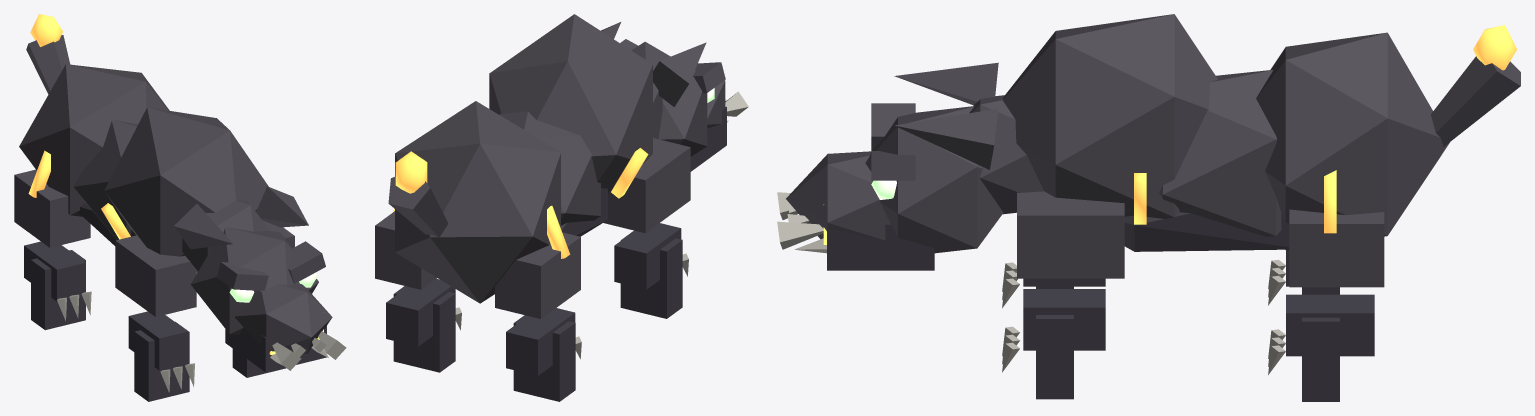
Rendered from cinder_hound_bitgem.glb.
3 views of the same model, side by side, from view 1: azimuth 30°, elevation 25°; view 2: azimuth 150°, elevation 25°; view 3: azimuth 270°, elevation 25° (orthographic). The views are drawn at different scales.
Parts seen in each view (by area): view 1: cinderhound; view 2: cinderhound; view 3: cinderhound.
Part boxes in pixels (bbox=[...]): cinderhound: bbox=[14, 14, 346, 401]; cinderhound: bbox=[375, 14, 748, 401]; cinderhound: bbox=[777, 14, 1520, 401].
Size of the model in its own units: 0.7547 by 1.14 by 2.35.
